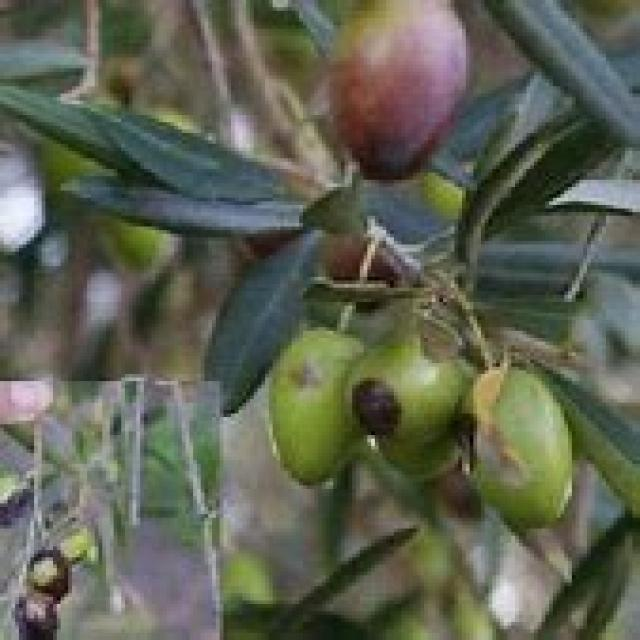Anthracnose: (460, 364, 570, 526), (348, 334, 462, 476), (269, 327, 360, 482)
